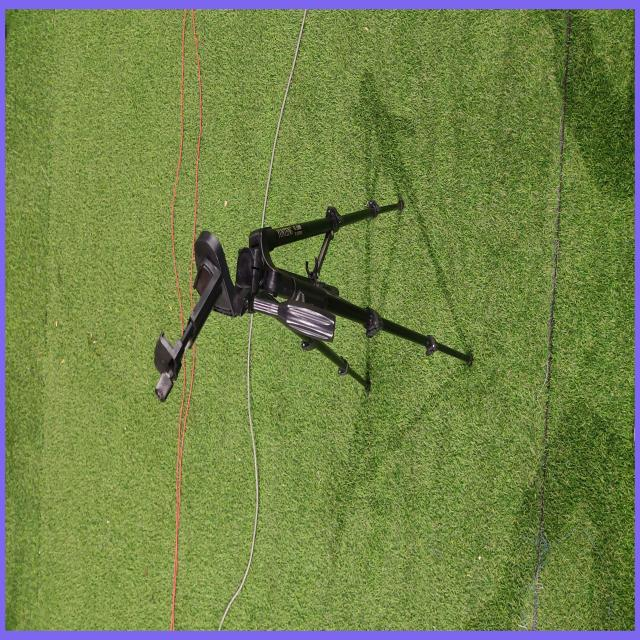Camer Stand: (153, 195, 474, 404)
